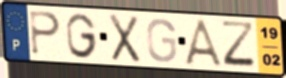A: (182, 18, 227, 69)
G: (65, 12, 100, 60), (145, 16, 179, 64)
P: (28, 9, 63, 58)
X: (108, 12, 142, 65)
Z: (219, 19, 259, 70)
